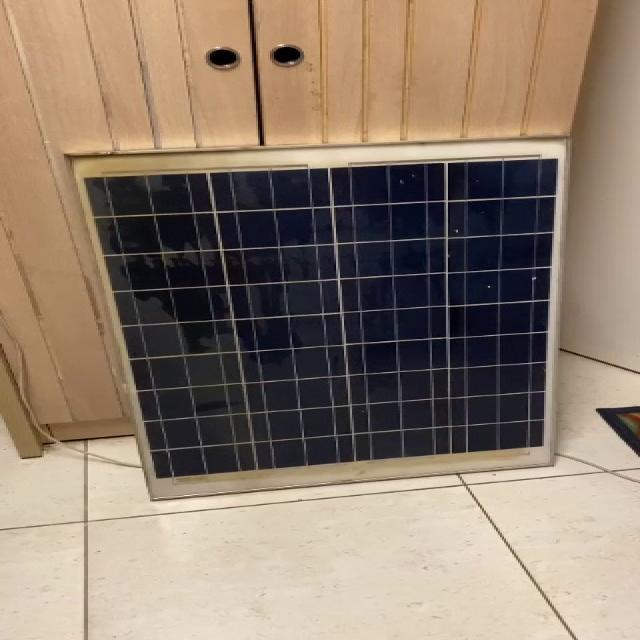faulty: (70, 140, 569, 497)
